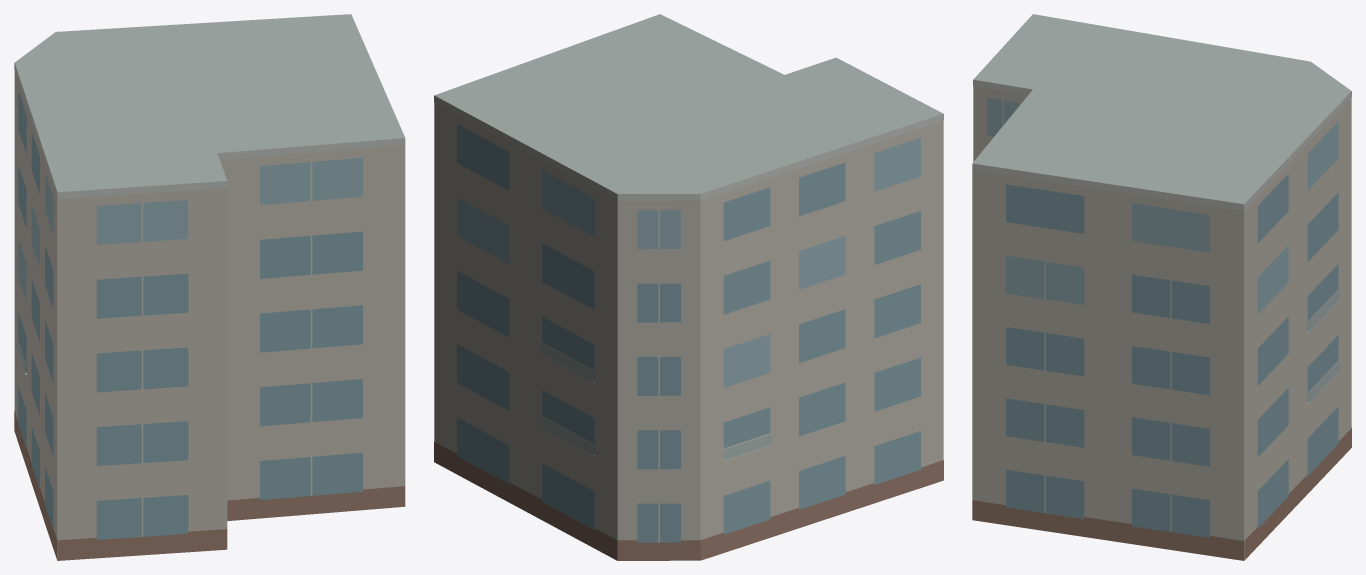
The model's file is survey-upis-32892320.glb.
3 renders of one model, left to right at view 1: azimuth 30°, elevation 25°; view 2: azimuth 150°, elevation 25°; view 3: azimuth 270°, elevation 25°, orthographic. The views are drawn at different scales.
Parts seen in each view (by area): view 1: survey-upis-32892320.tmp; view 2: survey-upis-32892320.tmp; view 3: survey-upis-32892320.tmp.
Part boxes in pixels (<box>): survey-upis-32892320.tmp: <box>14,14,405,560</box>; survey-upis-32892320.tmp: <box>434,14,943,560</box>; survey-upis-32892320.tmp: <box>972,14,1351,560</box>.
Size of the model in its own units: 14.88 by 13 by 12.55.
